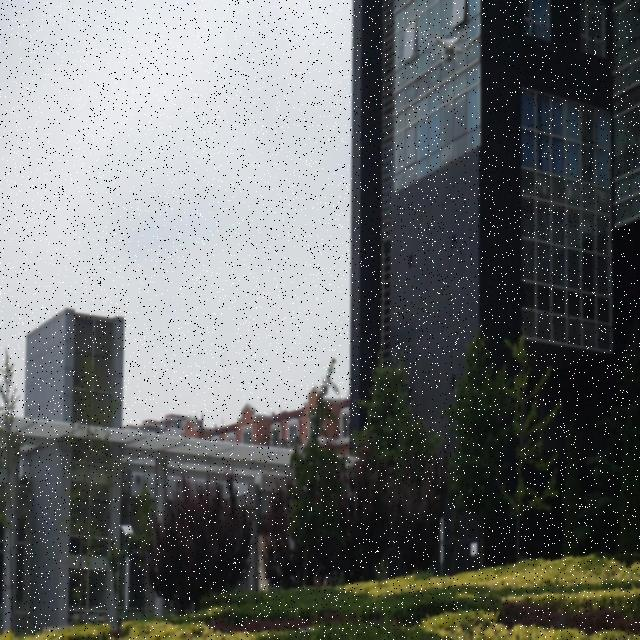UAV: (425, 30, 473, 71)
